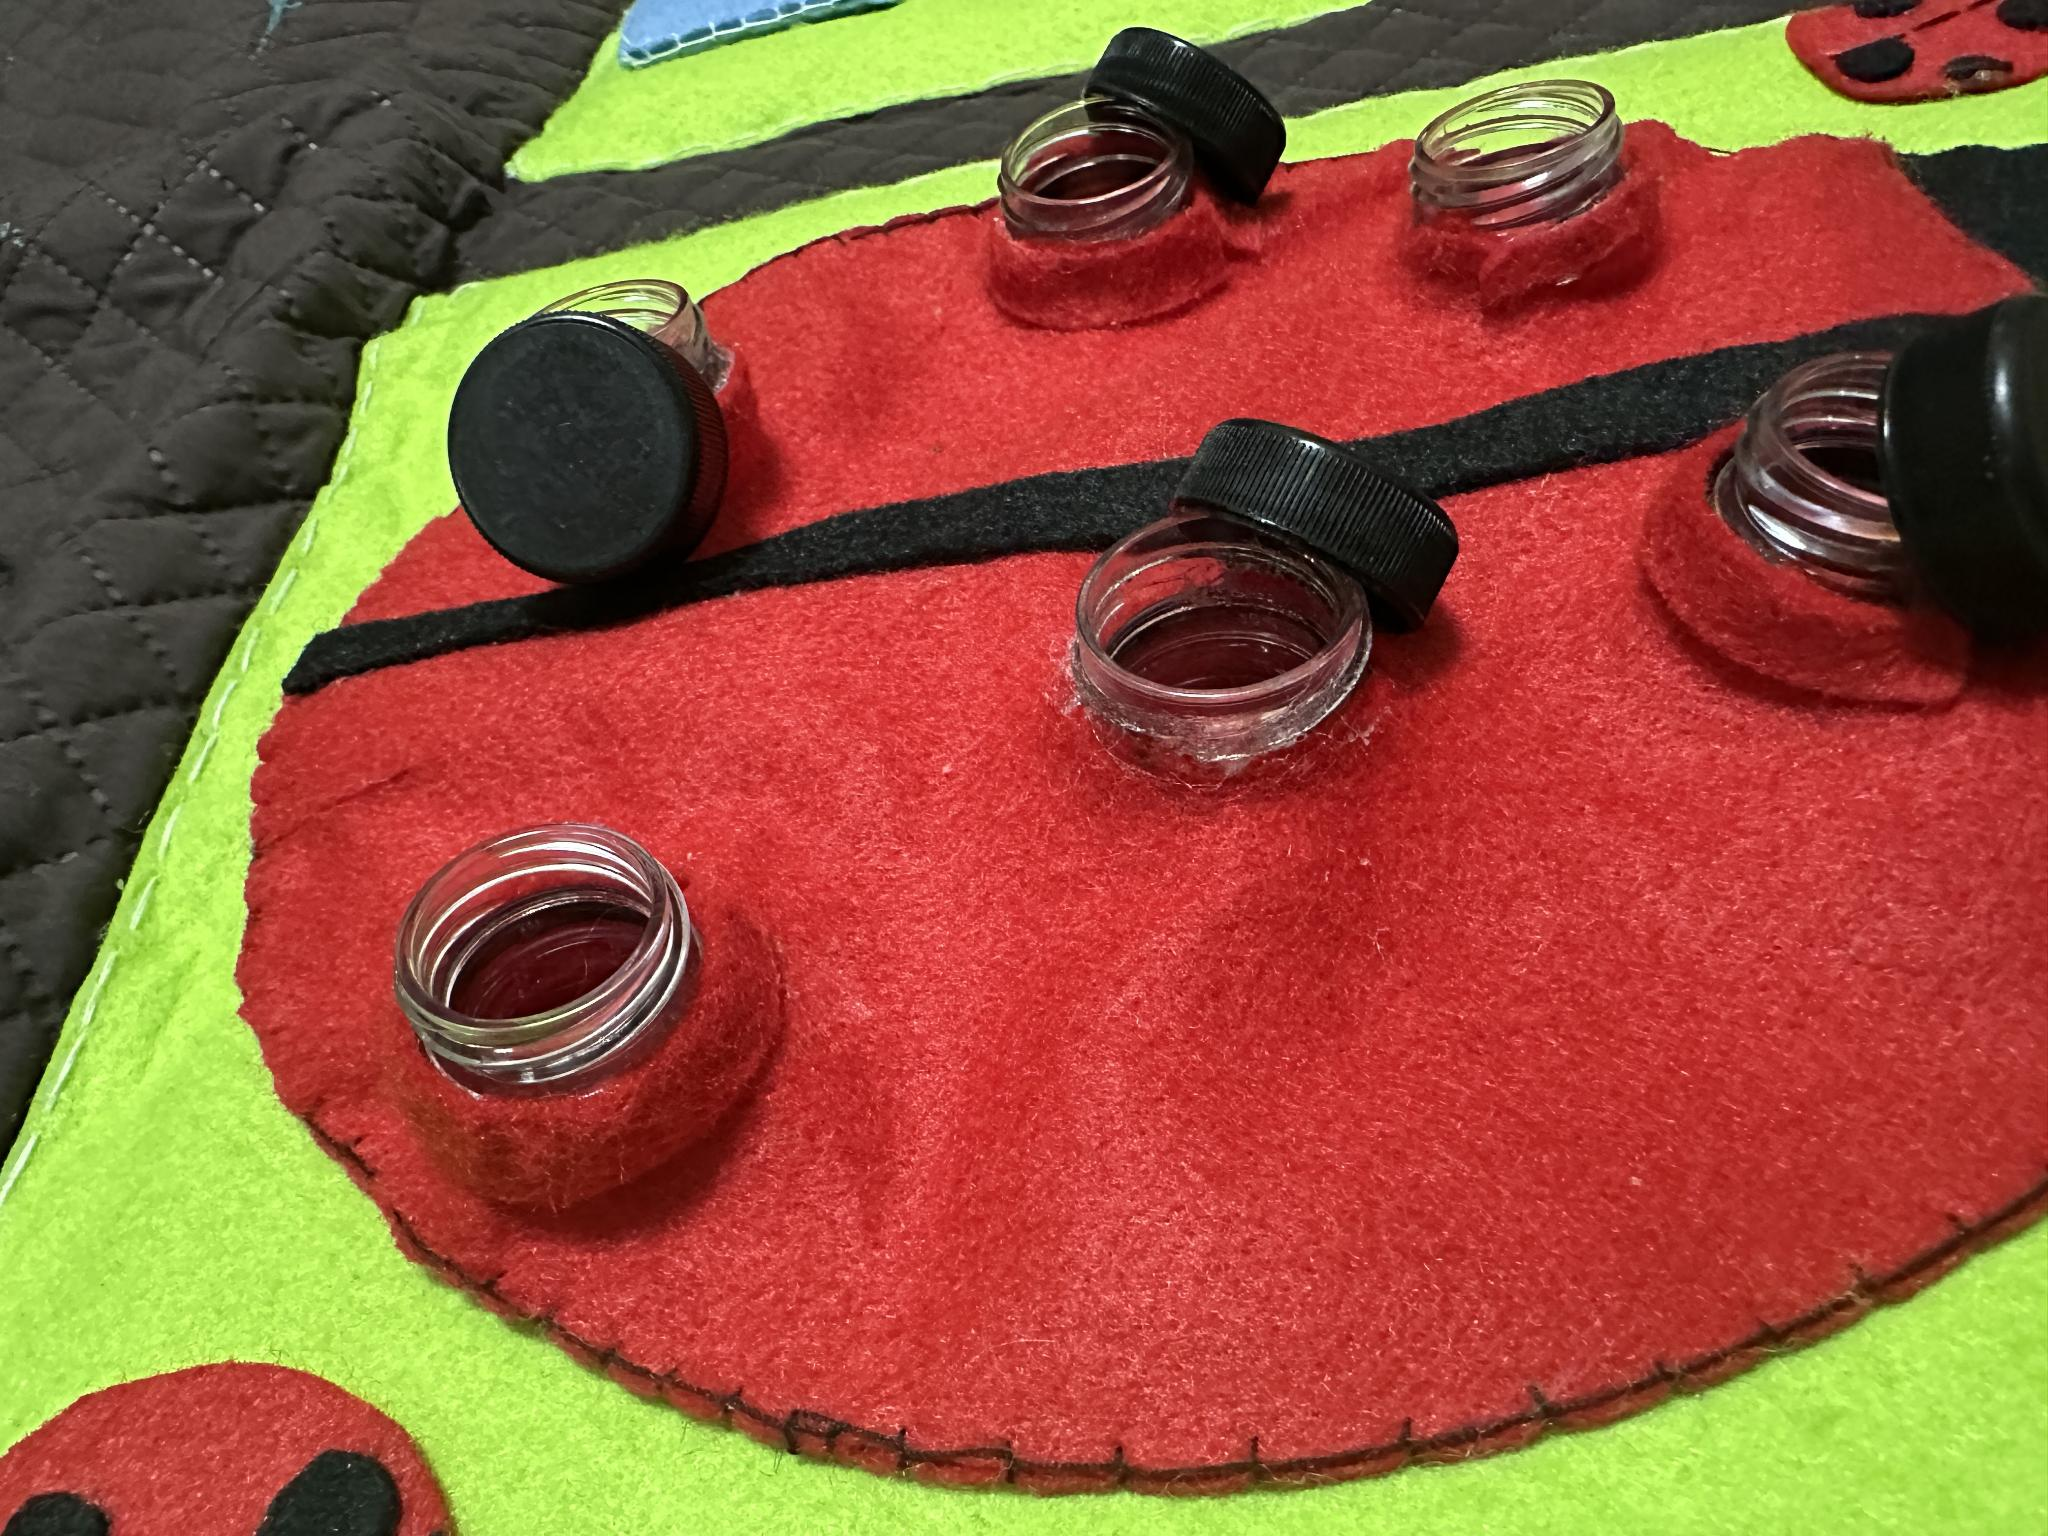cap_ng: (1646, 261, 2048, 776), (1013, 392, 1482, 799), (445, 245, 766, 611), (953, 0, 1295, 337)
